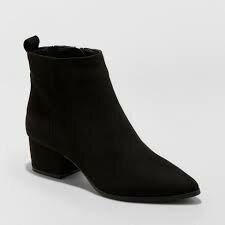Ankle boots: (20, 34, 205, 203)
